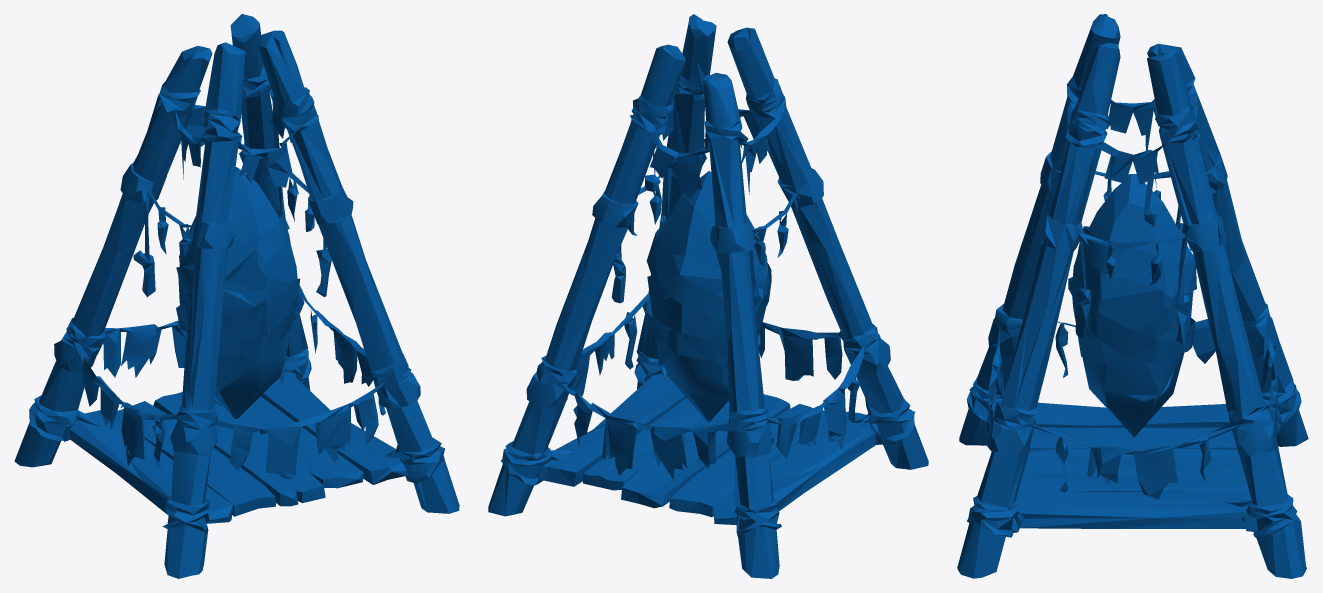
File: mana_totem.glb
3 renders of one model, left to right at view 1: azimuth 30°, elevation 25°; view 2: azimuth 150°, elevation 25°; view 3: azimuth 270°, elevation 25°, orthographic. The views are drawn at different scales.
Visible parts, largest first — view 1: mana_totem; view 2: mana_totem; view 3: mana_totem.
Part boxes in pixels (x1=…): mana_totem: x1=14, y1=14, x2=459, y2=578; mana_totem: x1=488, y1=14, x2=928, y2=578; mana_totem: x1=957, y1=14, x2=1308, y2=578.
Size of the model in its own units: 1.99 by 3 by 2.
Materials: 1 (1 with a texture image).
